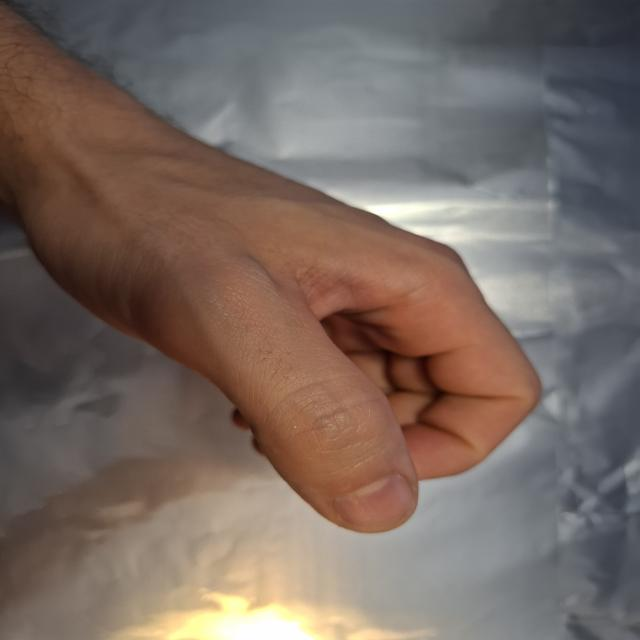glove_off: (0, 84, 547, 540)
